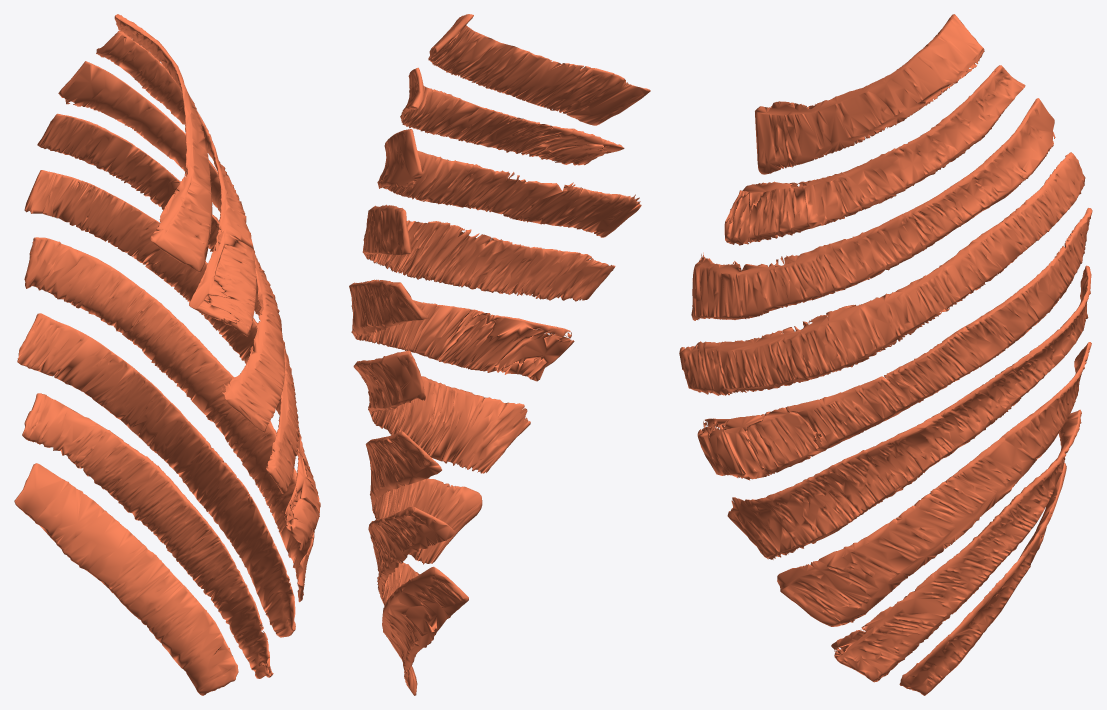
File: Innermost_intercostal_muscles.l_Generated_Mesh_From_X3D.458.glb
The picture shows the model from 3 angles, left to right: view 1: azimuth 30°, elevation 25°; view 2: azimuth 150°, elevation 25°; view 3: azimuth 270°, elevation 25°; orthographic projection. The views are drawn at different scales.
Visible parts, largest first — view 1: Innermost_intercostal_muscles.l_Generated_Mesh_From_X3D.458; view 2: Innermost_intercostal_muscles.l_Generated_Mesh_From_X3D.458; view 3: Innermost_intercostal_muscles.l_Generated_Mesh_From_X3D.458.
Part boxes in pixels (left/top/right/bottom): Innermost_intercostal_muscles.l_Generated_Mesh_From_X3D.458: left=14, top=14, right=320, bottom=695; Innermost_intercostal_muscles.l_Generated_Mesh_From_X3D.458: left=349, top=14, right=650, bottom=695; Innermost_intercostal_muscles.l_Generated_Mesh_From_X3D.458: left=679, top=14, right=1092, bottom=695.
Bounding box in the file's own units: 0.0919 × 0.3248 × 0.1874.
